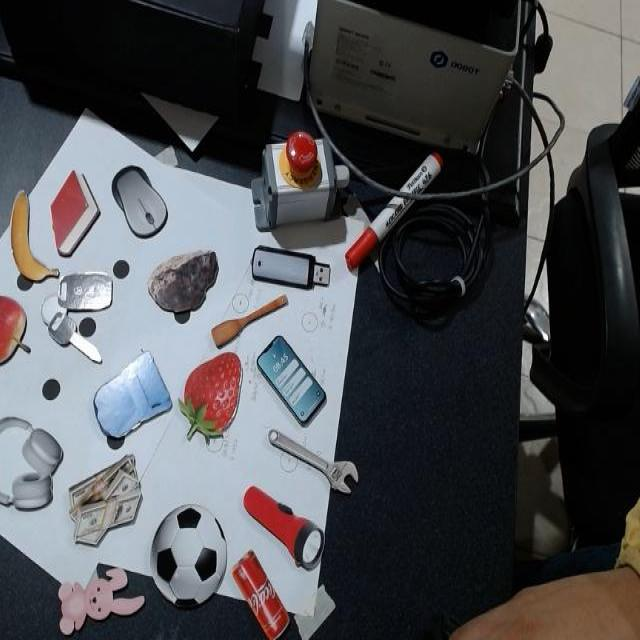Other Objects: (236, 465, 332, 579), (84, 345, 176, 457), (59, 451, 150, 554), (36, 256, 116, 364), (252, 328, 330, 432), (153, 505, 226, 607), (262, 428, 362, 498), (68, 455, 142, 547), (104, 152, 173, 249), (256, 333, 326, 427), (0, 188, 59, 297), (57, 565, 145, 635), (267, 428, 358, 495), (207, 280, 289, 352), (1, 417, 63, 512), (230, 548, 290, 639), (147, 248, 218, 313), (251, 246, 331, 291), (0, 295, 30, 364)
